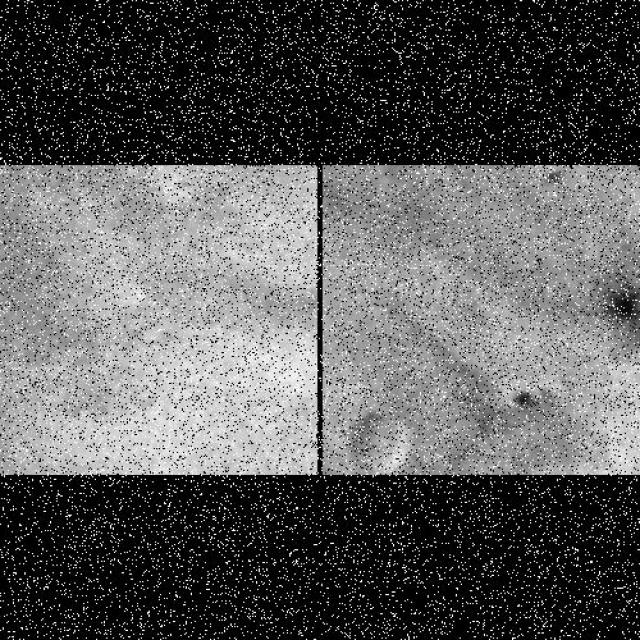crater: (337, 406, 421, 475), (0, 403, 40, 475)
